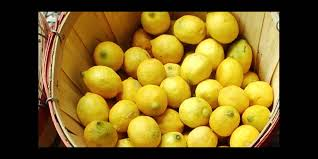Lemon: (79, 67, 126, 100), (81, 116, 122, 152), (93, 40, 128, 78), (227, 40, 258, 80), (229, 118, 261, 156), (128, 84, 168, 114), (243, 82, 277, 117), (147, 36, 185, 67), (178, 55, 213, 88), (179, 96, 218, 124), (133, 57, 165, 91), (104, 100, 138, 132), (191, 123, 223, 156), (214, 58, 245, 92), (213, 83, 247, 113), (129, 114, 159, 147), (171, 14, 204, 44), (204, 15, 242, 40), (194, 36, 223, 68), (77, 90, 103, 123), (142, 13, 175, 39), (122, 47, 148, 78), (239, 102, 268, 129), (212, 111, 240, 136), (161, 131, 190, 154)
